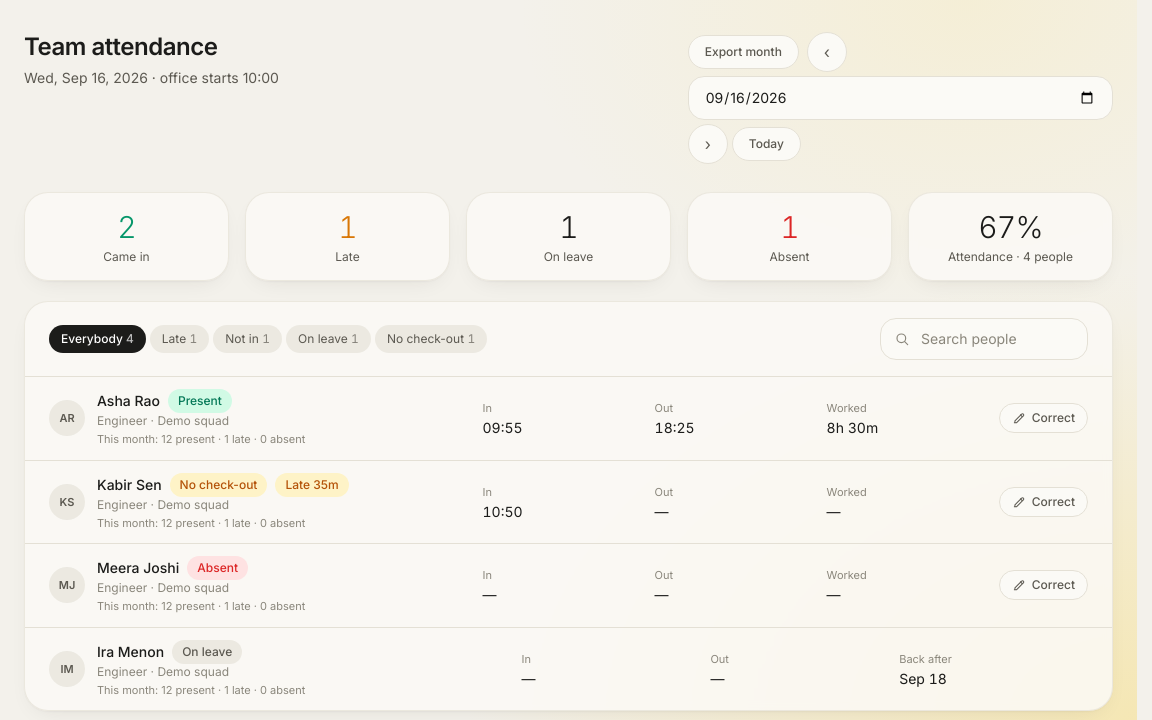
Test case: team attendance › filters to the people who came in late
Click the tab "Late 1" at {"x": 180, "y": 339}, box [150,325,209,353]
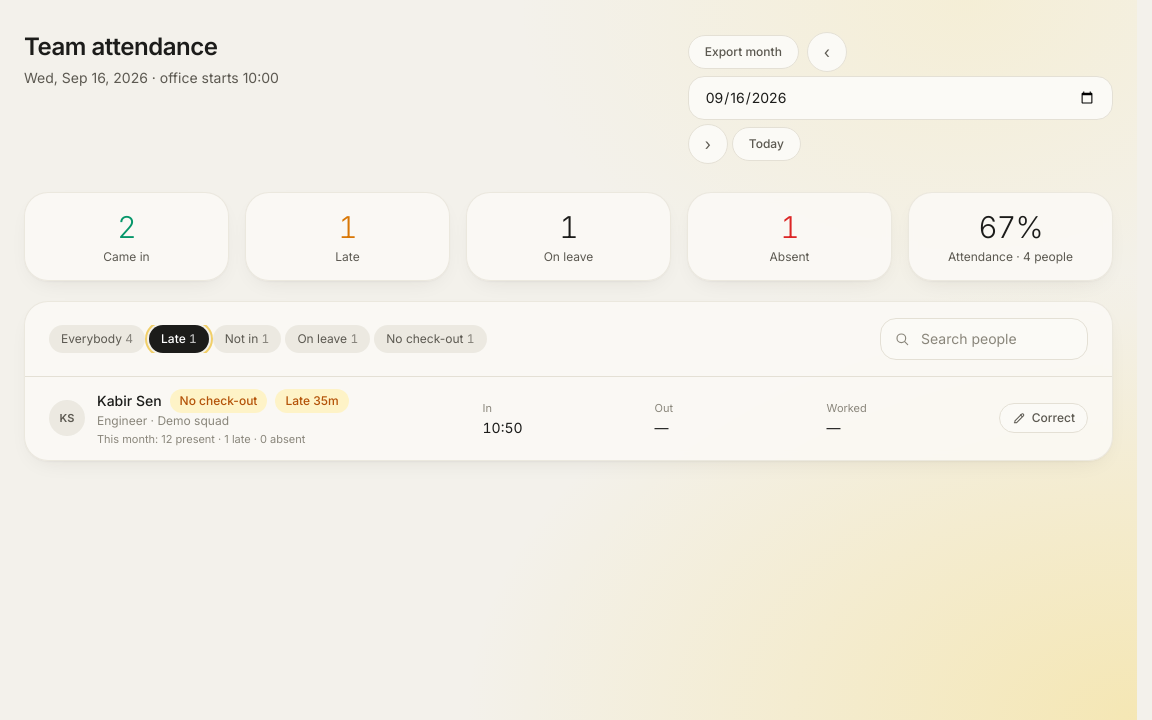
Expected: the text "Kabir Sen" is shown, [97,391,162,411]
Expected: the text "Asha Rao" is gone
